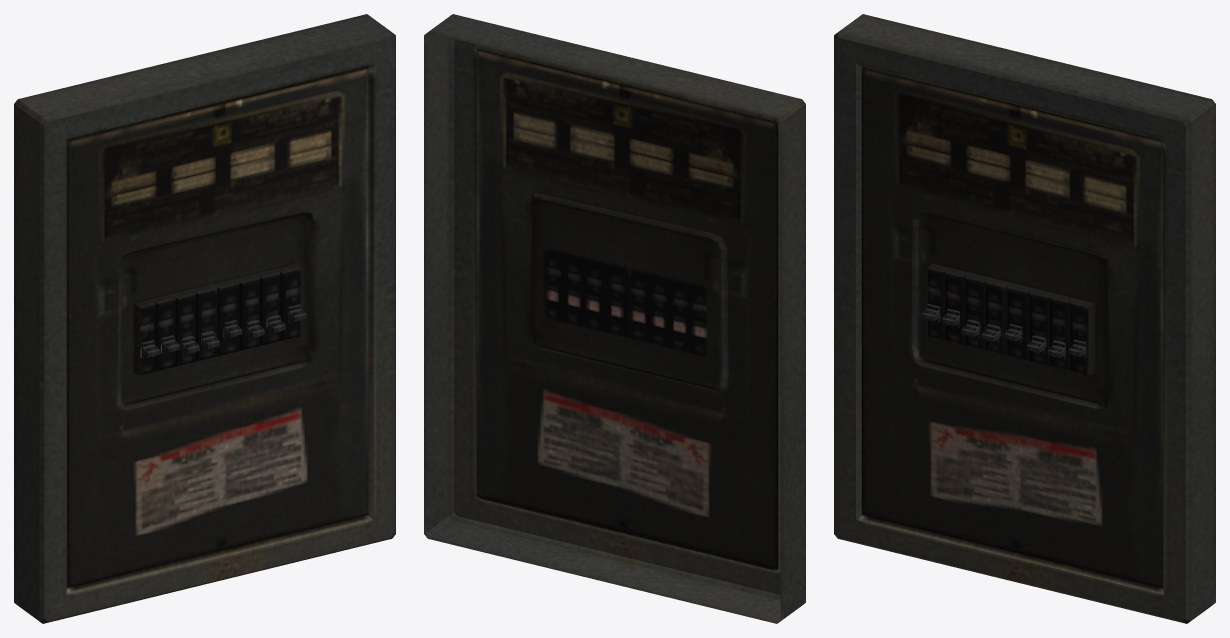
File: wall_box_2.obj
The picture shows the model from 3 angles, left to right: view 1: azimuth 30°, elevation 25°; view 2: azimuth 150°, elevation 25°; view 3: azimuth 330°, elevation 25°; orthographic projection.
Visible parts, largest first — view 1: wall_box_2; view 2: wall_box_2; view 3: wall_box_2.
Part boxes in pixels (x1=…): wall_box_2: x1=14, y1=14, x2=395, y2=623; wall_box_2: x1=424, y1=14, x2=805, y2=623; wall_box_2: x1=834, y1=14, x2=1215, y2=623.
Bounding box in the file's own units: 0.3928 × 0.5328 × 0.068.
